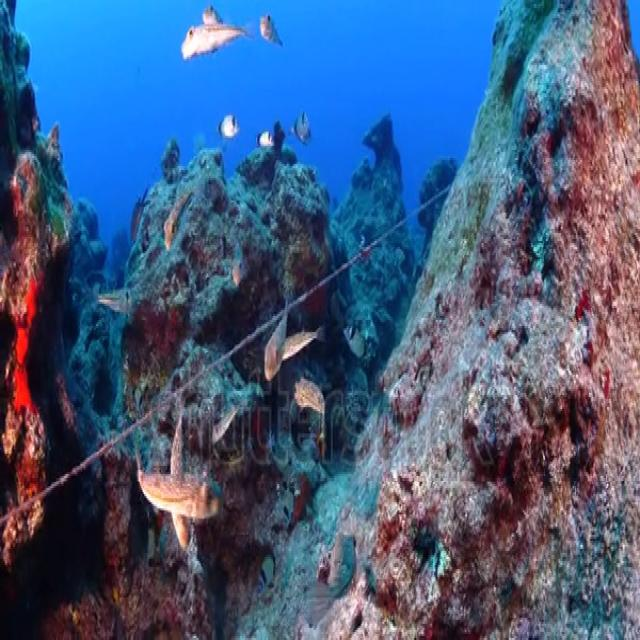Balon Baligi: (138, 454, 222, 522), (182, 15, 250, 61), (291, 373, 327, 445), (162, 184, 194, 258), (265, 305, 287, 379), (258, 11, 284, 46)
